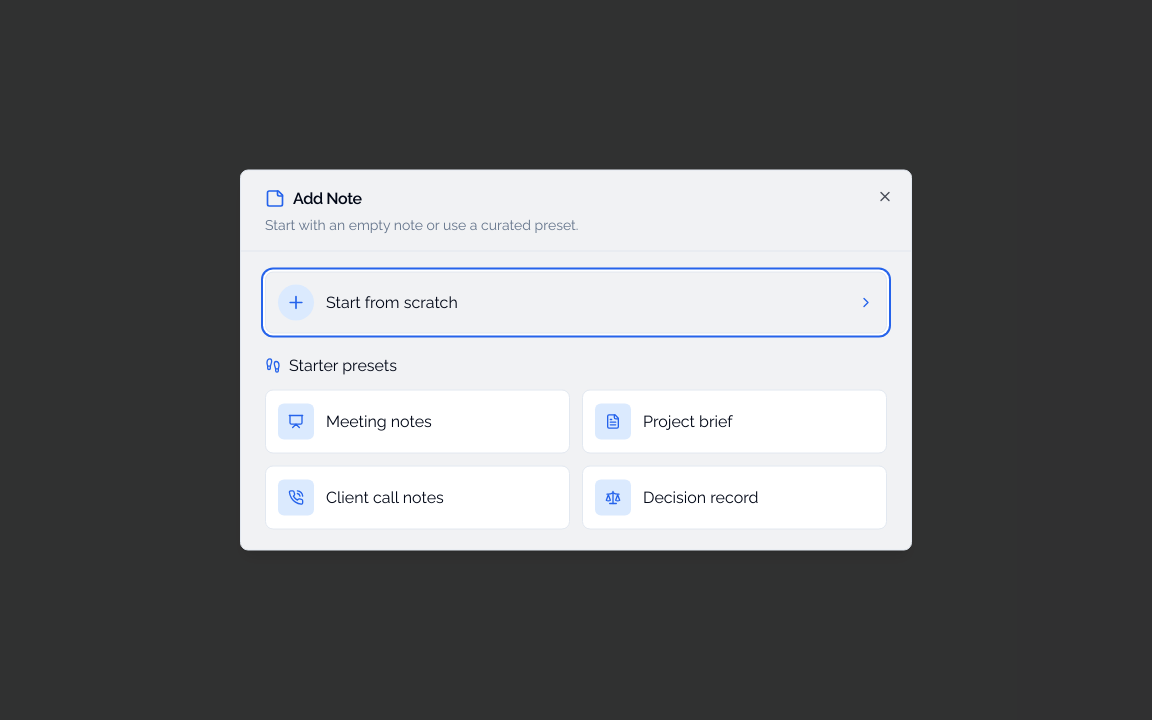
CreateItemModal category guidance › moves empty-category guidance into the note modal tooltip
Click the button "Start from scratch" at x=296, y=302, box top-left (265, 272), bottom-right (887, 334)
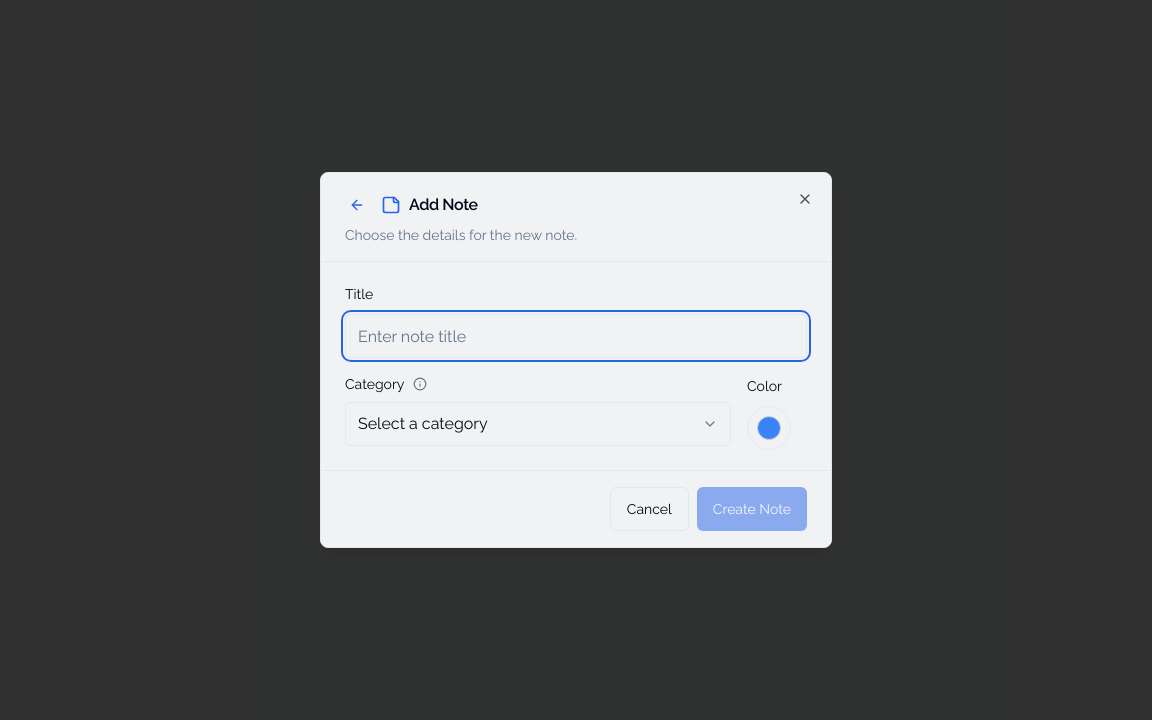
Focus the button named "About categories" at x=420, y=384, box top-left (410, 374), bottom-right (430, 394)
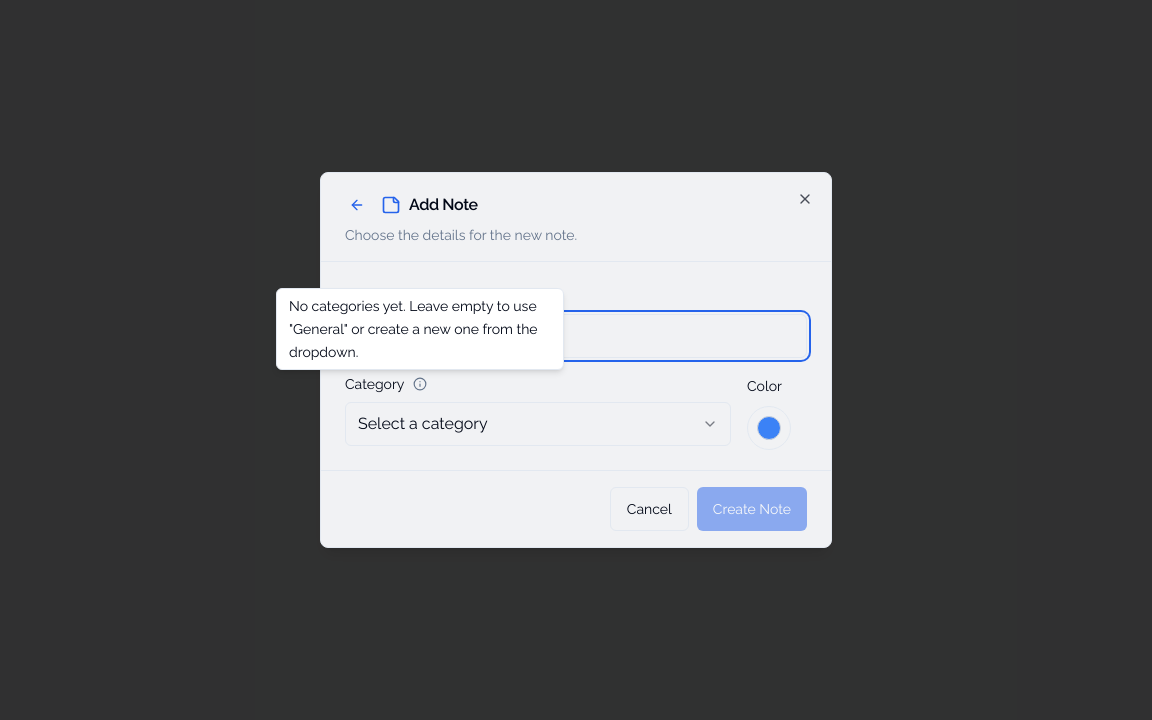
Check: the tooltip named "No categories yet. Leave empty to use \"General\" or create a new one from the dropdown." is shown, box top-left (276, 288), bottom-right (564, 370)
